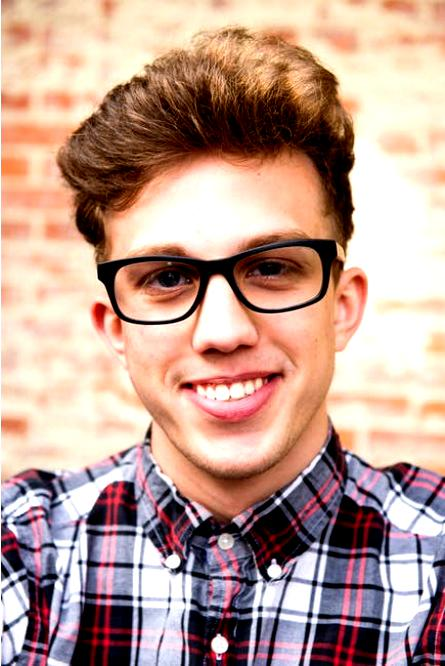face: (111, 153, 337, 482)
